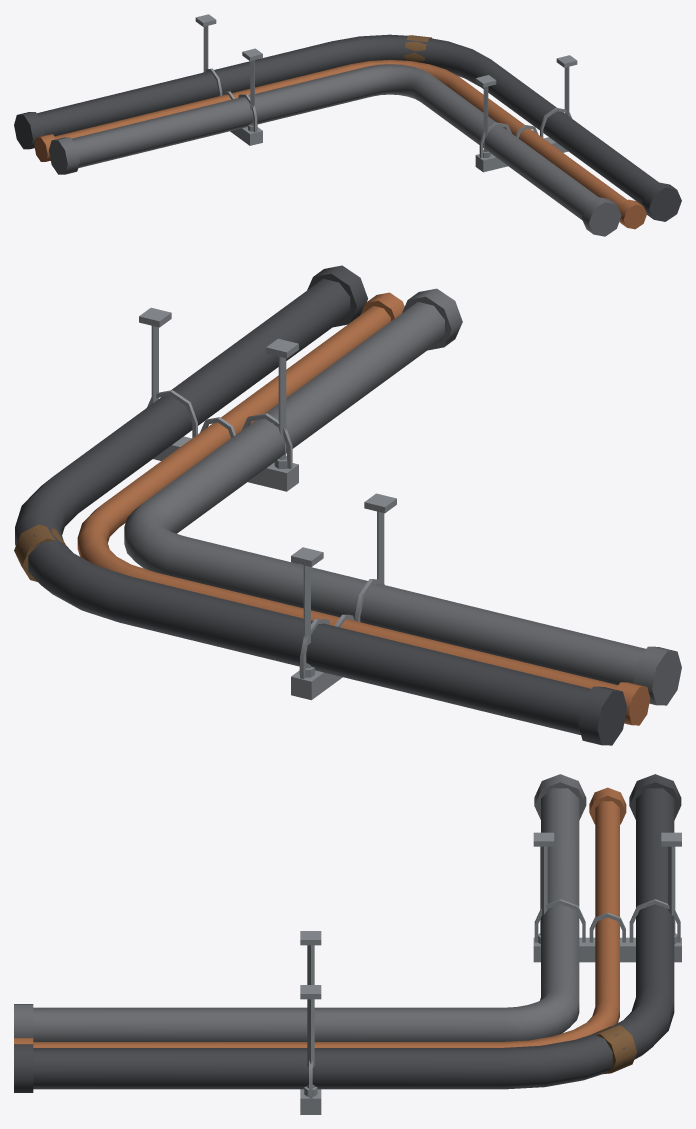
The model's file is Basement_PipeCorner.fbx.
3 renders of one model, top to bottom at view 1: azimuth 30°, elevation 25°; view 2: azimuth 150°, elevation 25°; view 3: azimuth 270°, elevation 25°, orthographic. The views are drawn at different scales.
Visible parts, largest first — view 1: PipeDark, PipeGrey, PipeCopper, Hangers, Rust; view 2: PipeDark, PipeGrey, PipeCopper, Hangers, Rust; view 3: PipeDark, PipeGrey, PipeCopper, Hangers, Rust.
Boxes of the visible parts, box(x1,y1,x2,y2) form: PipeDark: box(14, 34, 681, 221); PipeGrey: box(49, 64, 621, 236); PipeCopper: box(34, 59, 646, 229); Hangers: box(195, 14, 577, 172); Rust: box(404, 35, 431, 61); PipeDark: box(15, 265, 627, 745); PipeGrey: box(124, 288, 681, 705); PipeCopper: box(77, 292, 650, 725); Hangers: box(139, 307, 396, 700); Rust: box(14, 524, 66, 581); PipeDark: box(14, 774, 681, 1092); PipeGrey: box(14, 774, 586, 1041); PipeCopper: box(14, 787, 626, 1047); Hangers: box(300, 832, 681, 1114); Rust: box(592, 1025, 636, 1074).
Bounding box in the file's own units: 450 × 90 × 450.
